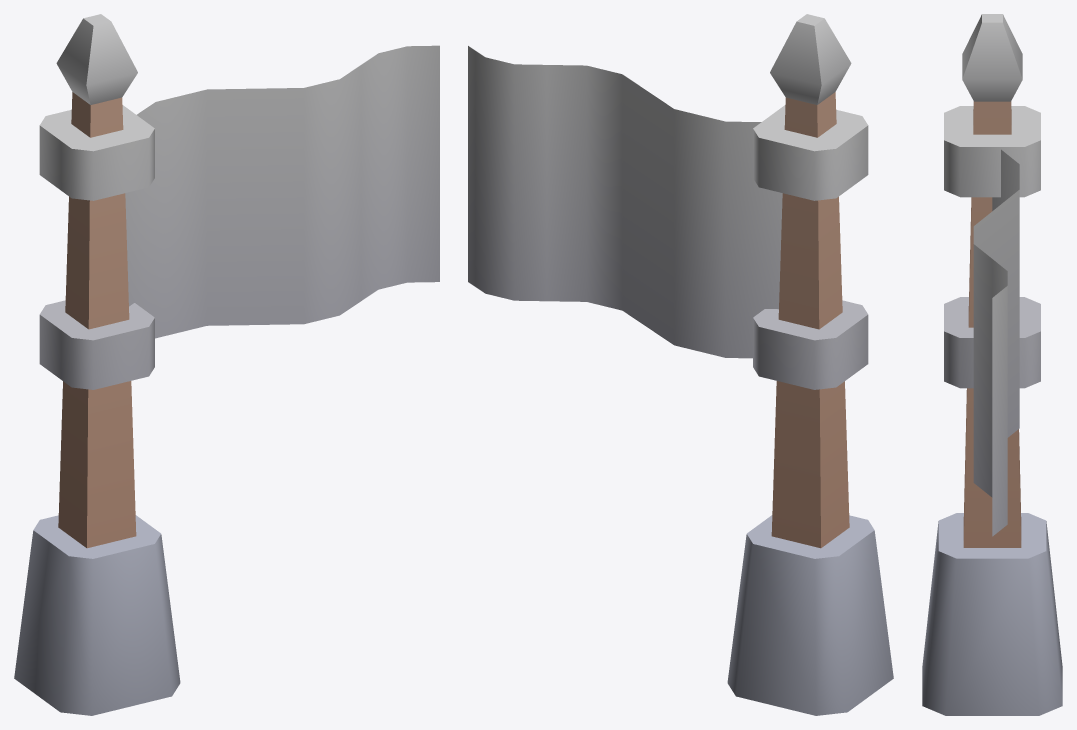
The model's file is flag.glb.
The picture shows the model from 3 angles, left to right: view 1: azimuth 30°, elevation 25°; view 2: azimuth 150°, elevation 25°; view 3: azimuth 270°, elevation 25°; orthographic projection.
Visible parts, largest first — view 1: flag; view 2: flag; view 3: flag.
Part boxes in pixels (x1,y1,x2,y2): flag: (14,14,439,715); flag: (468,14,893,715); flag: (922,14,1062,715).
Size of the model in its own units: 1.34 by 2.1 by 0.3989.
